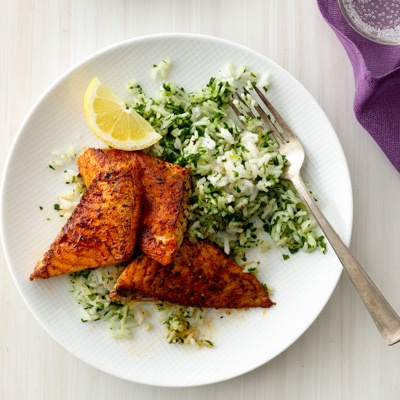background: (18, 36, 204, 217)
